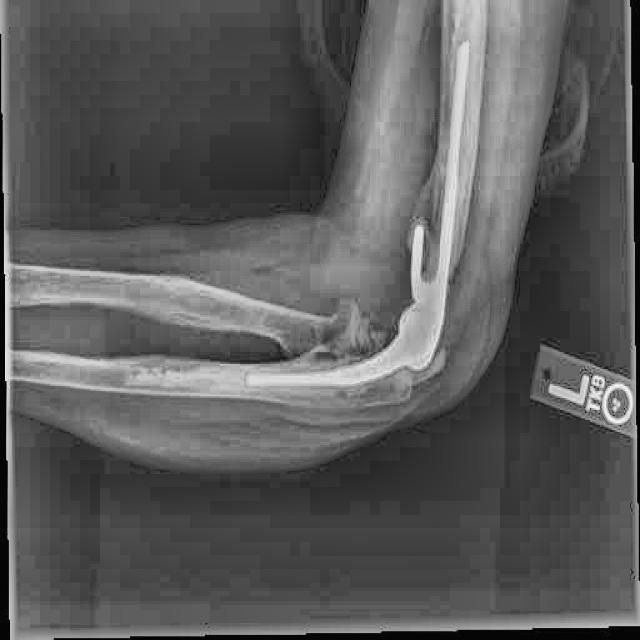elbow positive: (327, 276, 398, 371)
